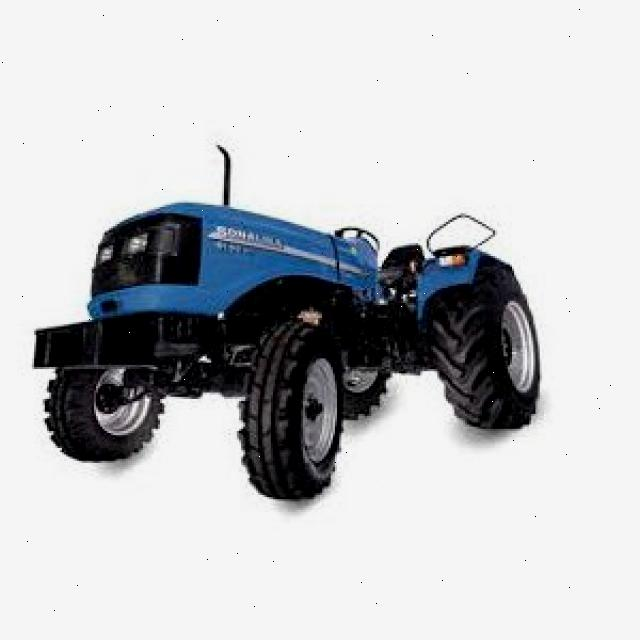Tratores - v5 YOLO V8L 2024-11-13: (24, 134, 548, 492)
